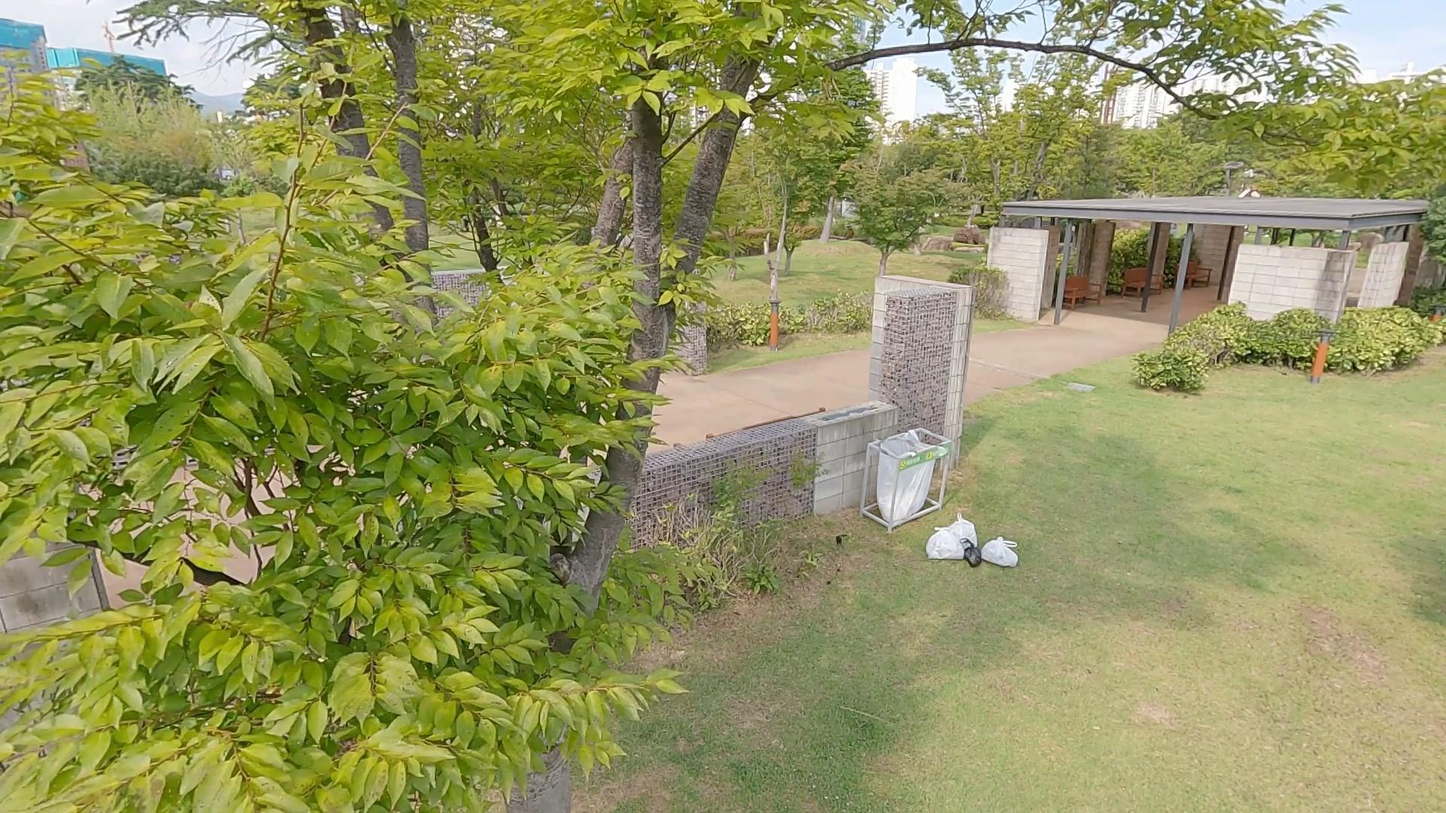trash: (983, 532, 1023, 574), (940, 511, 979, 554), (928, 526, 966, 563), (953, 541, 982, 573)
